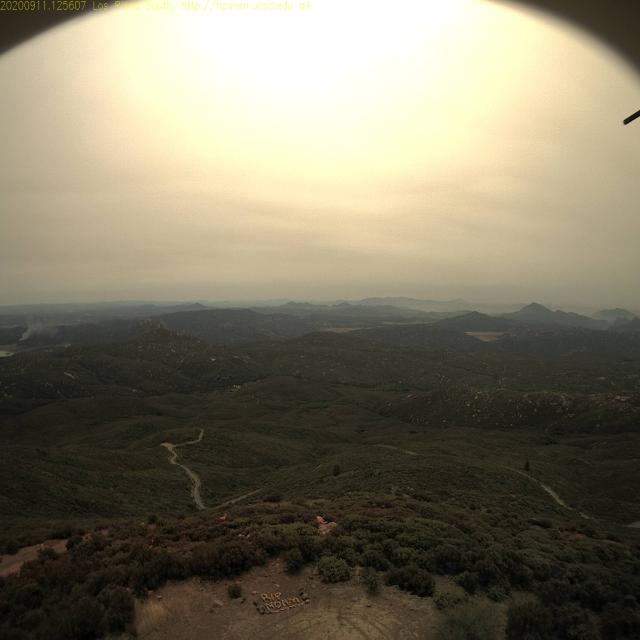smoke: (0, 445, 195, 471), (18, 317, 38, 343), (40, 316, 60, 342)
